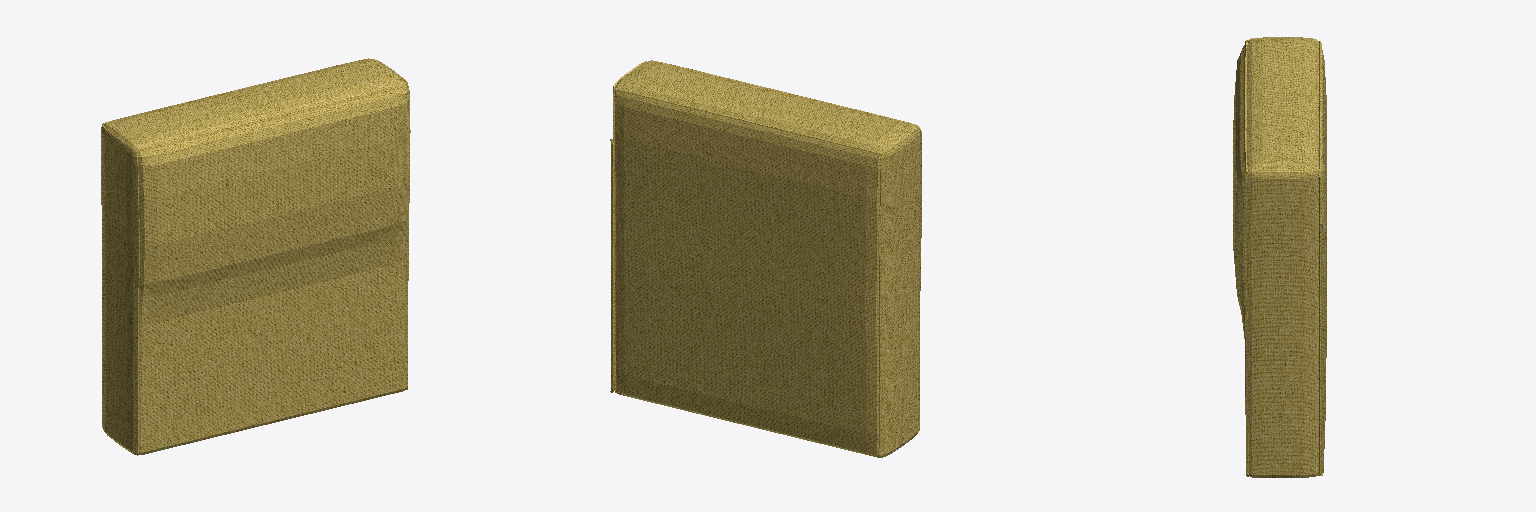
The picture shows the model from 3 angles: view 1: azimuth 30°, elevation 25°; view 2: azimuth 150°, elevation 25°; view 3: azimuth 270°, elevation 25°; orthographic projection.
Parts seen in each view (by area): view 1: Box854; view 2: Box854; view 3: Box854.
Part boxes in pixels (left/top/right/bottom): Box854: left=101, top=58, right=410, bottom=455; Box854: left=610, top=60, right=921, bottom=457; Box854: left=1233, top=37, right=1326, bottom=477.
Bounding box in the file's own units: 64.93 × 69.78 × 19.
Materials: 1 (1 with a texture image).